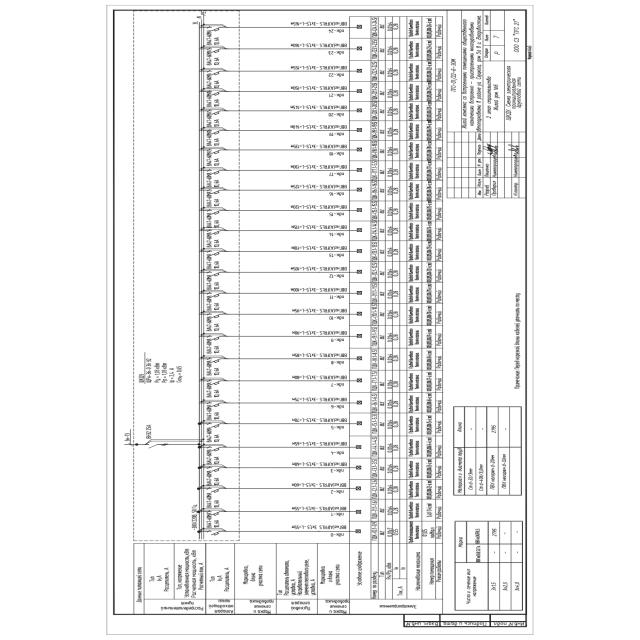-: (206, 50, 220, 66), (206, 449, 220, 465), (206, 191, 220, 207), (206, 492, 220, 508), (206, 212, 220, 228), (207, 295, 221, 311), (206, 361, 220, 376), (206, 513, 220, 528), (206, 30, 220, 45), (206, 405, 220, 420), (206, 427, 220, 442), (206, 383, 220, 398), (206, 254, 220, 269), (206, 471, 220, 486), (206, 73, 220, 88), (206, 131, 220, 146), (207, 316, 220, 332), (207, 232, 220, 248), (145, 358, 153, 383), (207, 112, 220, 127), (207, 92, 220, 107), (207, 172, 220, 187), (207, 275, 220, 290), (207, 339, 220, 354), (207, 151, 220, 166), (146, 424, 152, 439)
QF: (206, 529, 222, 537), (206, 510, 222, 517), (206, 446, 222, 452), (205, 487, 221, 493), (206, 422, 222, 428), (207, 402, 223, 408), (206, 380, 222, 386), (207, 334, 223, 340), (206, 312, 222, 318), (206, 292, 222, 298), (206, 271, 222, 277), (206, 250, 222, 256), (206, 228, 222, 234), (206, 209, 222, 215), (206, 188, 222, 194), (205, 168, 221, 174), (206, 148, 222, 154), (206, 130, 222, 136), (206, 109, 222, 115), (205, 90, 221, 96), (205, 70, 221, 76), (206, 48, 222, 54), (206, 25, 222, 31), (206, 358, 222, 363), (206, 467, 222, 472)
QS: (147, 443, 169, 450)
